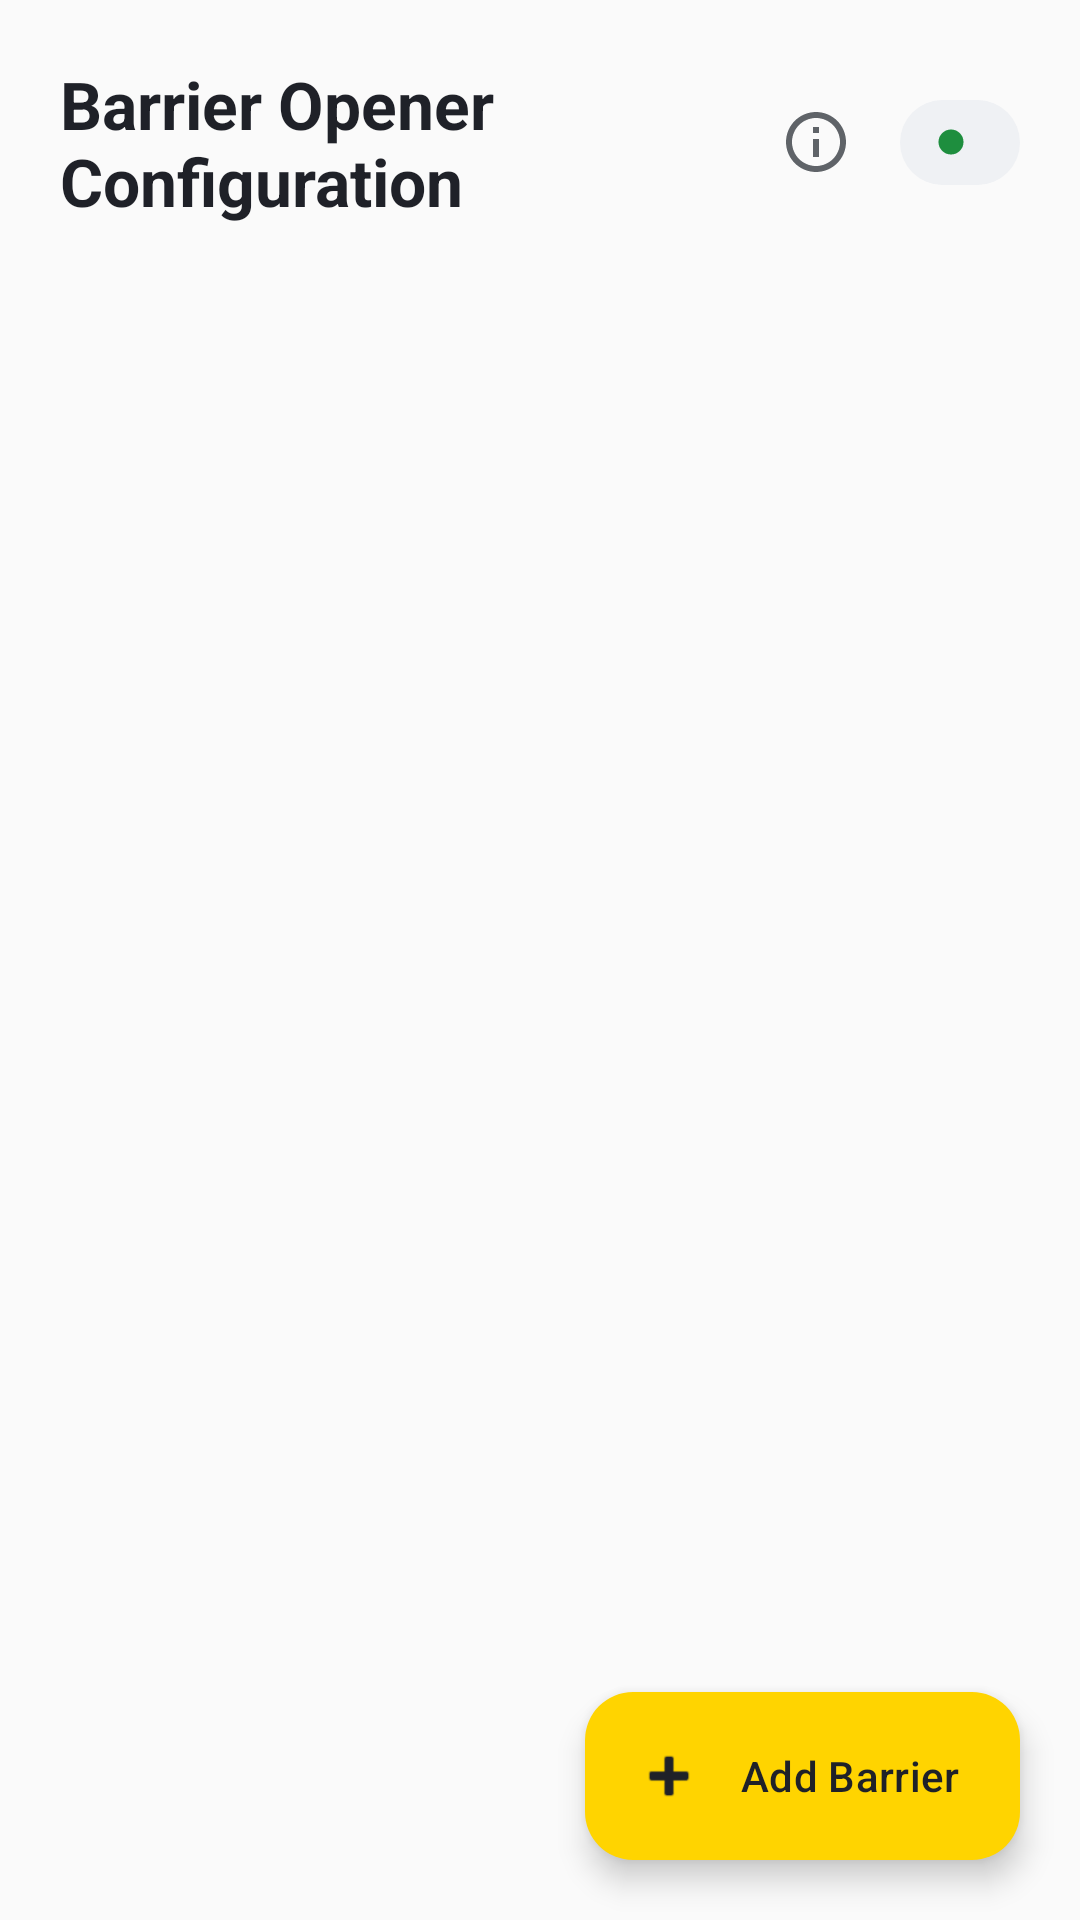

Icons on this 1080px×1920px Android screen, each with the point to tap as (x=x, y=y):
About: (x=816, y=142)
